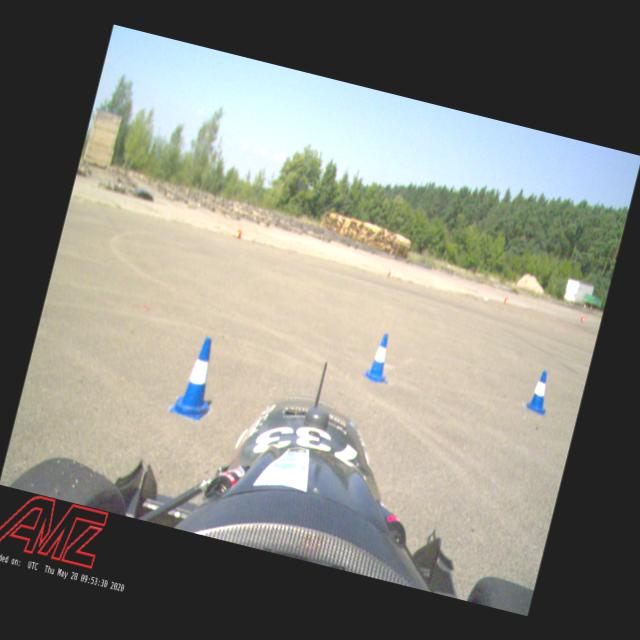blue_cone: (168, 332, 226, 423), (361, 330, 398, 384), (524, 366, 555, 414)
orange_cone: (232, 228, 242, 239), (386, 270, 394, 278), (503, 296, 510, 304), (580, 315, 585, 322)
